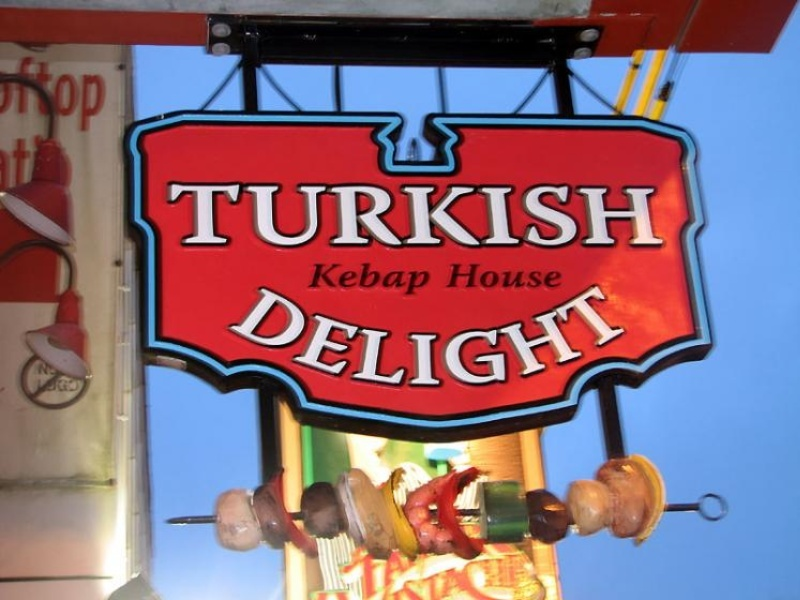text: (241, 281, 256, 398), (257, 281, 272, 398), (273, 281, 288, 398), (289, 281, 304, 398), (305, 281, 320, 398), (321, 281, 336, 398), (337, 281, 352, 398), (353, 281, 368, 398), (369, 281, 384, 398), (385, 281, 400, 398), (401, 281, 416, 398), (417, 281, 432, 398), (433, 281, 448, 398), (449, 281, 464, 398), (465, 281, 480, 398), (481, 281, 496, 398), (497, 281, 512, 398), (513, 281, 528, 398), (529, 281, 544, 398), (545, 281, 560, 398), (561, 281, 576, 398), (577, 281, 592, 398), (593, 281, 608, 398), (609, 281, 624, 398), (625, 281, 636, 398), (1, 55, 16, 134), (17, 55, 32, 134), (33, 55, 48, 134), (49, 55, 64, 134), (65, 55, 80, 134), (81, 55, 96, 134), (177, 182, 192, 251), (193, 182, 208, 251), (209, 182, 224, 251), (225, 182, 240, 251), (241, 182, 256, 251), (257, 182, 272, 251), (273, 182, 288, 251), (289, 182, 304, 251), (305, 182, 320, 251), (321, 182, 336, 251), (337, 182, 352, 251), (353, 182, 368, 251), (369, 182, 384, 251), (385, 182, 400, 251), (401, 182, 416, 251), (417, 182, 432, 251), (433, 182, 448, 251), (449, 182, 464, 251), (465, 182, 480, 251), (481, 182, 496, 251), (497, 182, 512, 251), (513, 182, 528, 251), (529, 182, 544, 251), (545, 182, 560, 251), (561, 182, 576, 251), (577, 182, 592, 251), (593, 182, 608, 251), (609, 182, 624, 251), (625, 182, 640, 251), (641, 182, 656, 251), (97, 55, 108, 134), (233, 281, 240, 398), (321, 544, 336, 598), (337, 544, 352, 598), (353, 544, 368, 598), (369, 544, 384, 598), (385, 544, 400, 598), (401, 544, 416, 598), (417, 544, 432, 598), (433, 544, 448, 598), (449, 544, 464, 598), (465, 544, 480, 598), (481, 544, 496, 598), (497, 544, 512, 598), (17, 140, 32, 192), (165, 182, 176, 251), (513, 544, 527, 598), (657, 182, 667, 251), (3, 140, 16, 192), (321, 260, 336, 296), (337, 260, 352, 296), (353, 260, 368, 296), (369, 260, 384, 296), (385, 260, 400, 296), (401, 260, 416, 296), (417, 260, 430, 296), (449, 261, 464, 292), (465, 261, 480, 292), (481, 261, 496, 292), (497, 261, 512, 292), (513, 261, 528, 292), (529, 261, 544, 292), (545, 261, 560, 292), (312, 544, 320, 598), (49, 377, 64, 394), (65, 377, 80, 394), (34, 377, 48, 394), (314, 260, 320, 296), (36, 361, 48, 374), (49, 361, 58, 374), (81, 377, 85, 394), (33, 140, 34, 192), (561, 261, 562, 292)
